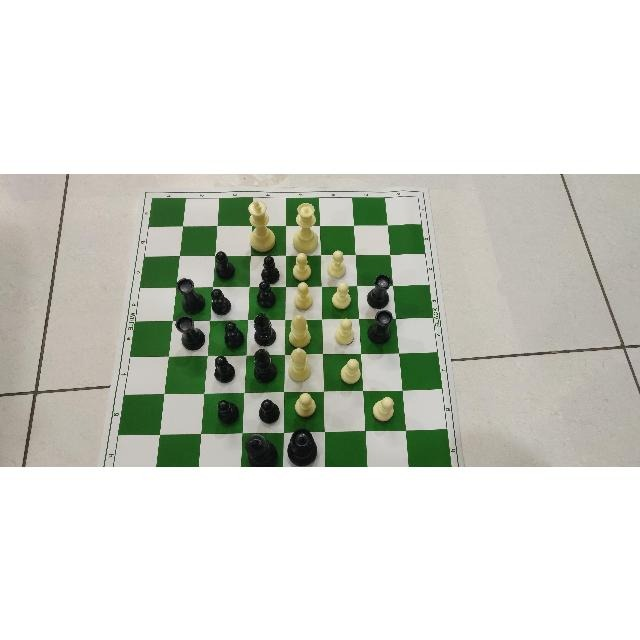black-bishop: (253, 348, 281, 386), (254, 310, 282, 346)
black-king: (243, 432, 282, 464)
black-pawn: (213, 248, 239, 280), (258, 253, 284, 284), (211, 353, 237, 383), (215, 398, 241, 425), (208, 287, 233, 315), (256, 279, 280, 308), (256, 397, 282, 423), (222, 318, 244, 348)
black-queen: (285, 425, 324, 465)
black-rook: (174, 314, 208, 350), (174, 276, 204, 316), (365, 308, 393, 346), (364, 272, 392, 307)
white-bishop: (288, 346, 314, 382), (289, 312, 315, 347)
white-king: (247, 198, 277, 252)
white-pawn: (291, 252, 317, 282), (373, 392, 398, 423), (327, 247, 352, 276), (295, 390, 319, 420), (339, 357, 361, 385), (330, 282, 352, 310), (294, 281, 316, 309), (335, 318, 355, 346)
white-queen: (290, 200, 319, 250)
